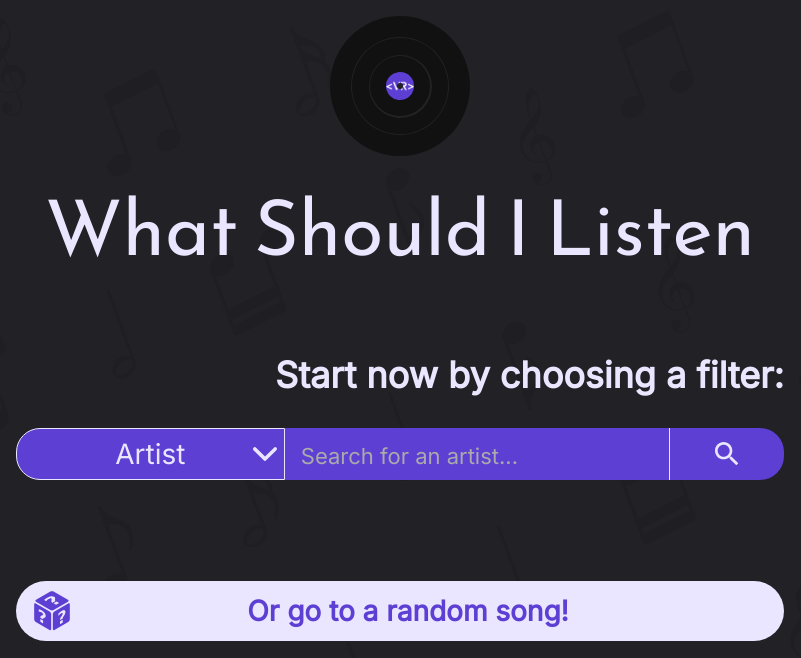
Test: Testes Página Home: › Seta Pra Cima Funcionando
Click the icon with test id "setaBaixo" at (265, 454), box [253,442,277,466]
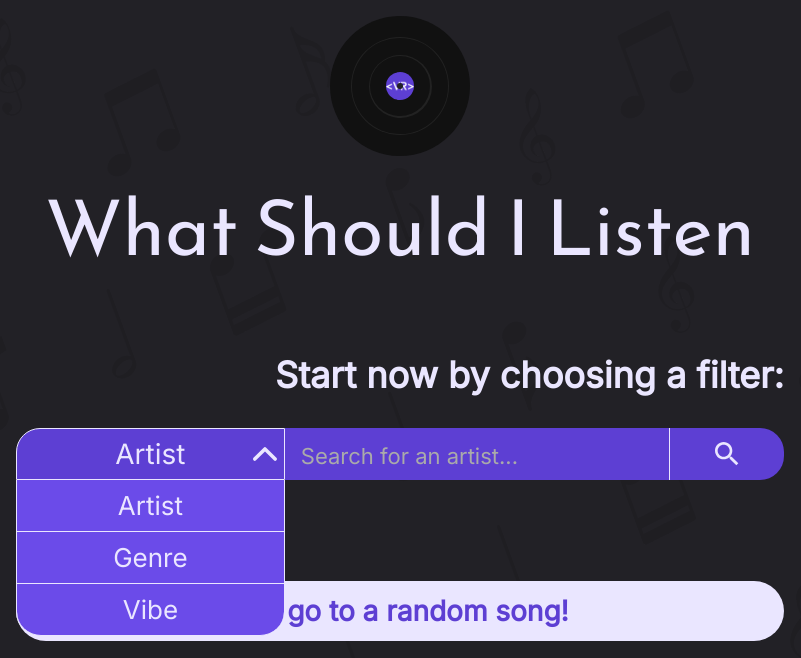
Click the icon with test id "setaCima" at (265, 454), box [253,442,277,466]
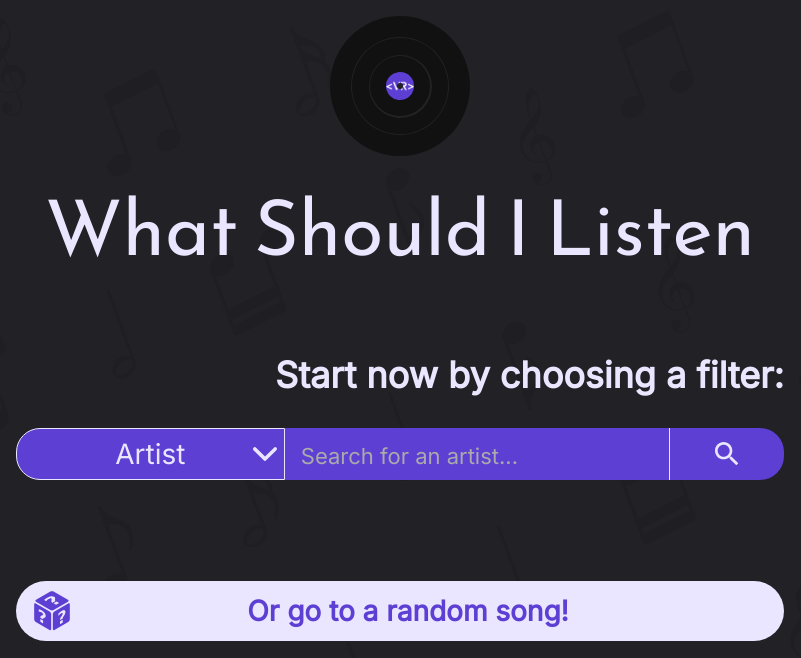
Check: the icon with test id "setaCima" is gone
